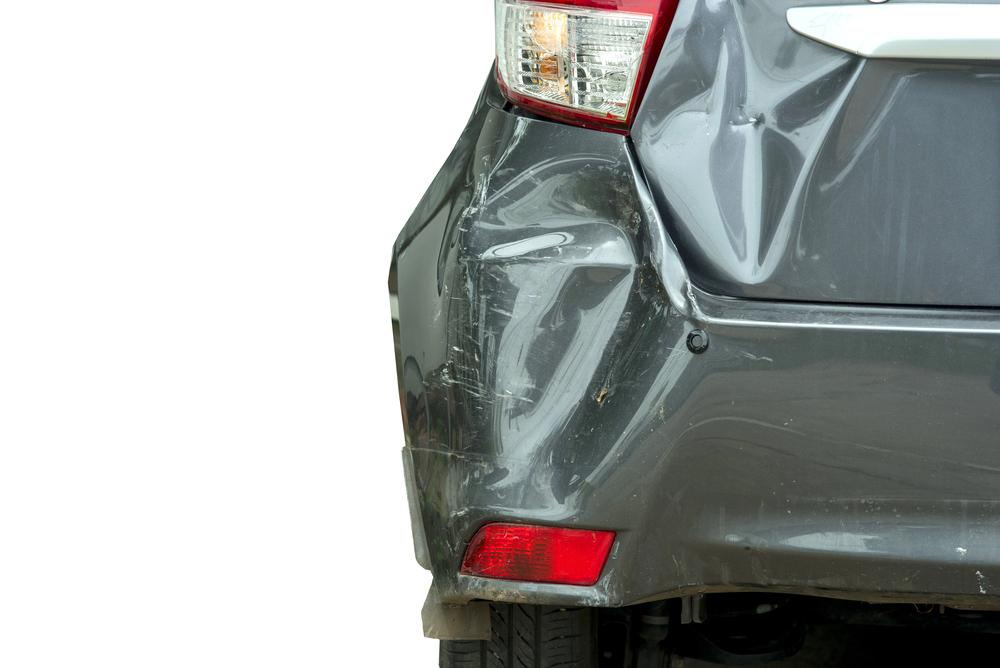dent: (469, 154, 698, 519), (632, 0, 861, 284)
lamp broken: (494, 0, 674, 134)
scratch: (431, 284, 497, 405)
